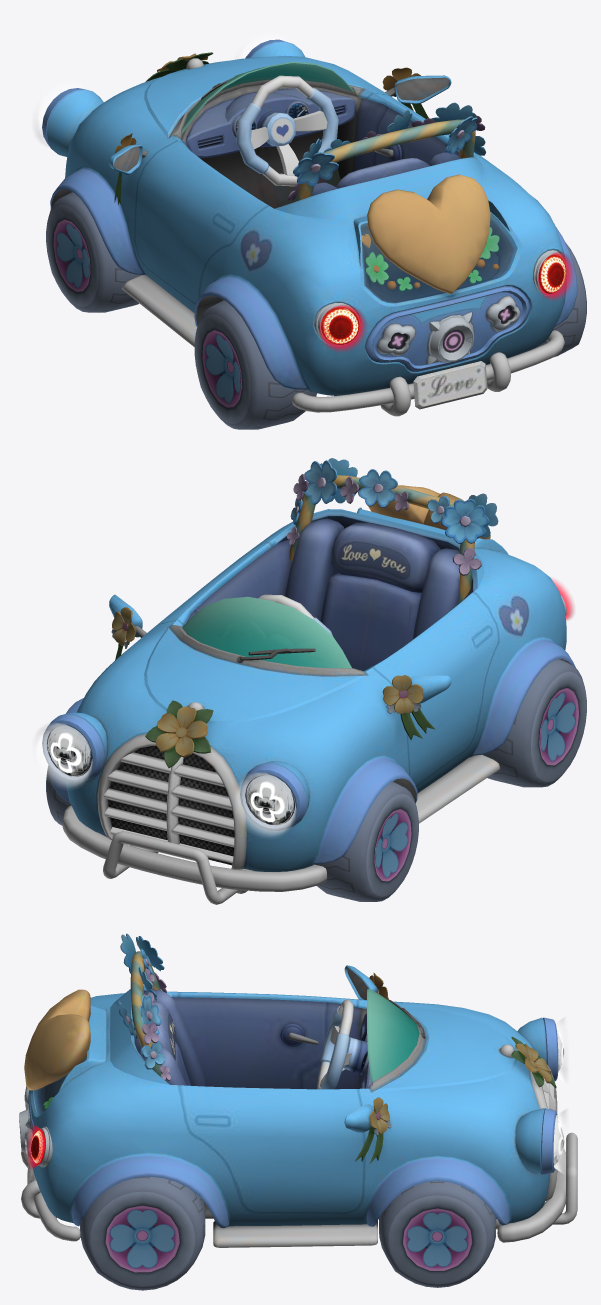
3 views of the same model, one above another, from view 1: azimuth 30°, elevation 25°; view 2: azimuth 150°, elevation 25°; view 3: azimuth 270°, elevation 25° (orthographic). The views are drawn at different scales.
Visible parts, largest first — view 1: body, wheel_rl, wheel_fl, wheel_rr; view 2: body, wheel_rl, wheel_fl, wheel_fr; view 3: body, wheel_rr, wheel_fr.
Boxes of the visible parts, left/top/right/bottom form: body: left=35, top=34, right=577, bottom=416; wheel_rl: left=194, top=300, right=316, bottom=429; wheel_fl: left=46, top=192, right=141, bottom=312; wheel_rr: left=523, top=242, right=586, bottom=357; body: left=35, top=458, right=575, bottom=904; wheel_rl: left=482, top=659, right=586, bottom=787; wheel_fl: left=314, top=781, right=418, bottom=901; wheel_fr: left=46, top=765, right=107, bottom=836; body: left=19, top=933, right=577, bottom=1247; wheel_rr: left=80, top=1176, right=205, bottom=1290; wheel_fr: left=379, top=1181, right=496, bottom=1287.
Size of the model in its own units: 2.16 by 1.68 by 3.4.
Materials: 4 (4 with a texture image).
